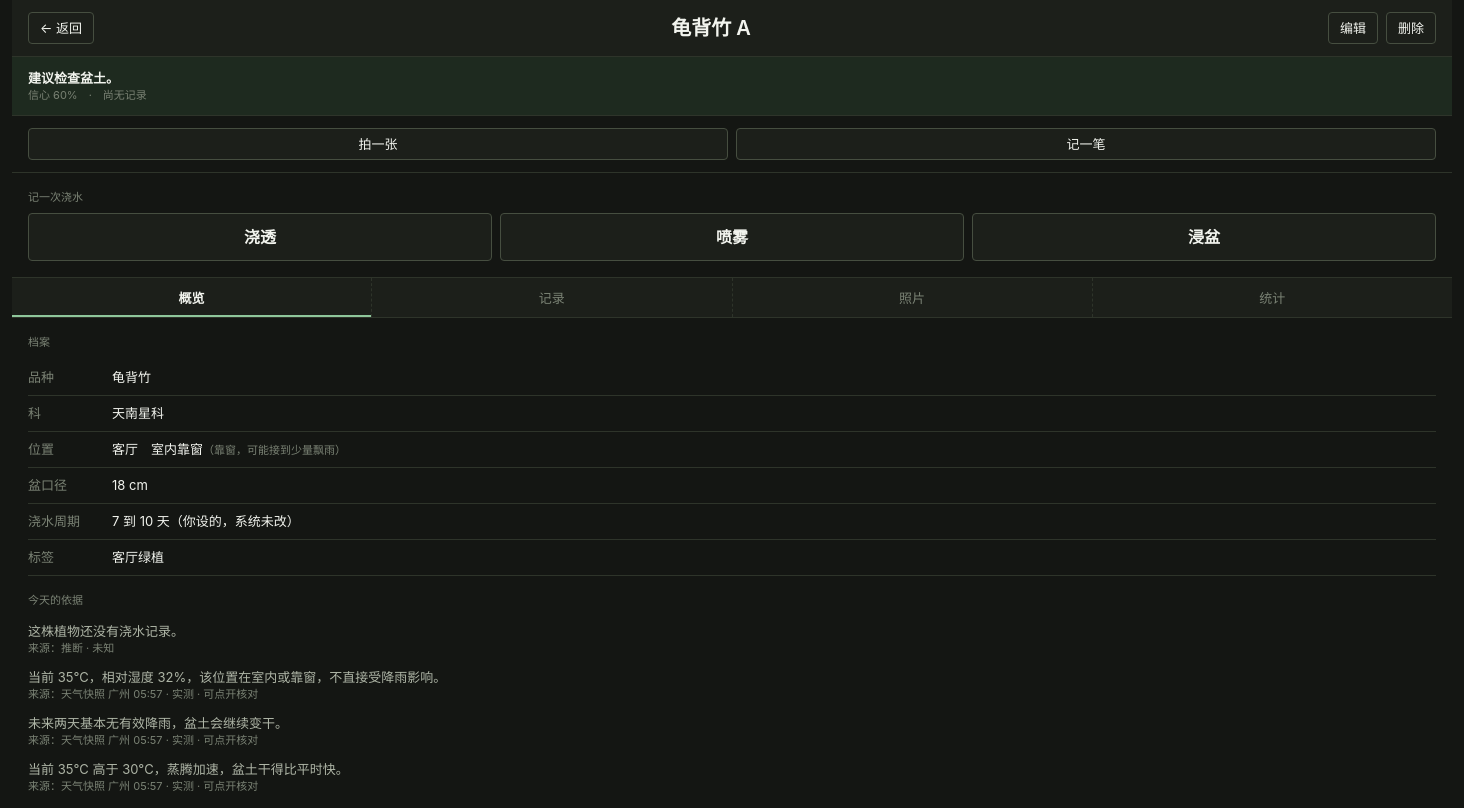
Test: 照片 tab：成长时间线是视图（D-08） › NOTE 不出现在成长时间线
What coordinates should you click on to do the following:
click the button "照片"
I would click on:
 (913, 298)
Its box is x1=732 y1=278 x2=1093 y2=317.
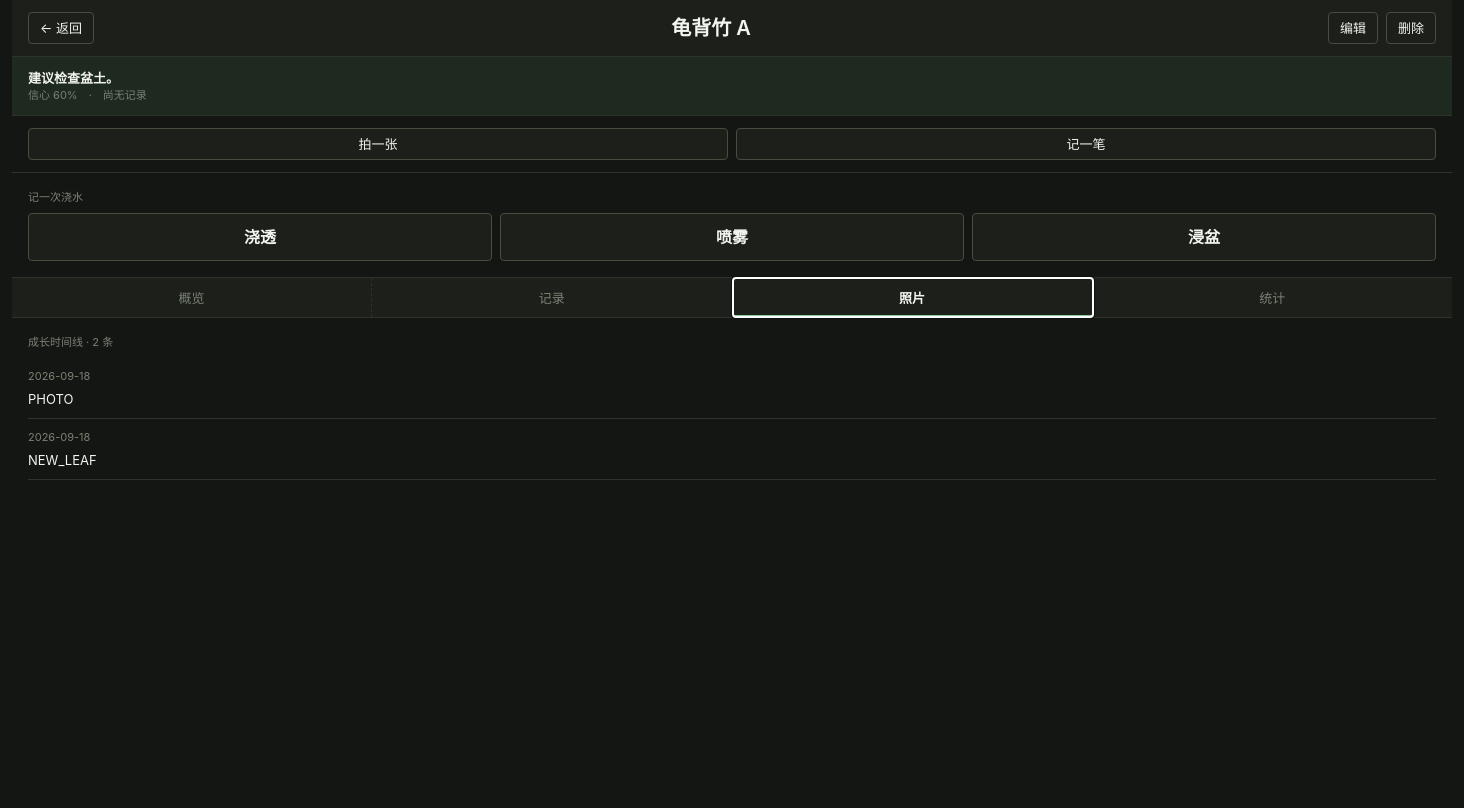
Expected: the text "成长时间线 · 2 条" is shown, x1=28 y1=335 x2=113 y2=349
